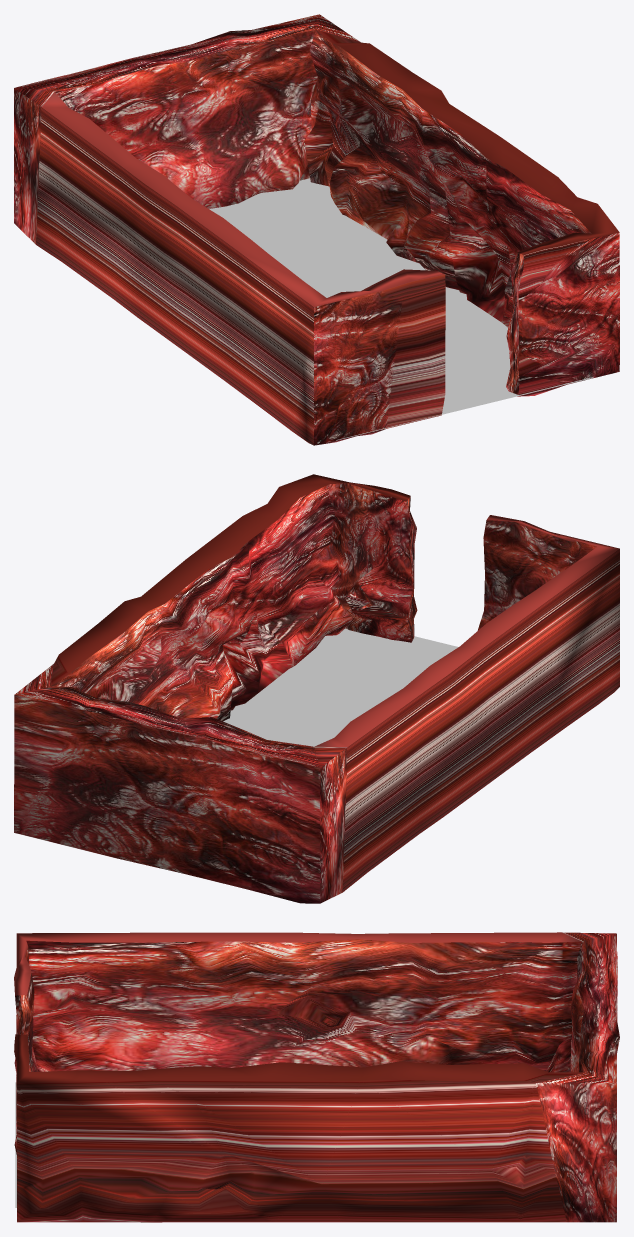
The model's file is meatroom.fbx.
3 renders of one model, top to bottom at view 1: azimuth 30°, elevation 25°; view 2: azimuth 150°, elevation 25°; view 3: azimuth 270°, elevation 25°, orthographic.
Parts seen in each view (by area): view 1: Cube.168, Plane.004; view 2: Cube.168, Plane.004; view 3: Cube.168.
Boxes of the visible parts, x1,y1,x2,y2 form: Cube.168: [14, 14, 619, 445]; Plane.004: [209, 178, 593, 440]; Cube.168: [14, 474, 619, 903]; Plane.004: [223, 628, 458, 746]; Cube.168: [14, 932, 619, 1222].
Bounding box in the file's own units: 2192 × 1084 × 3677.
